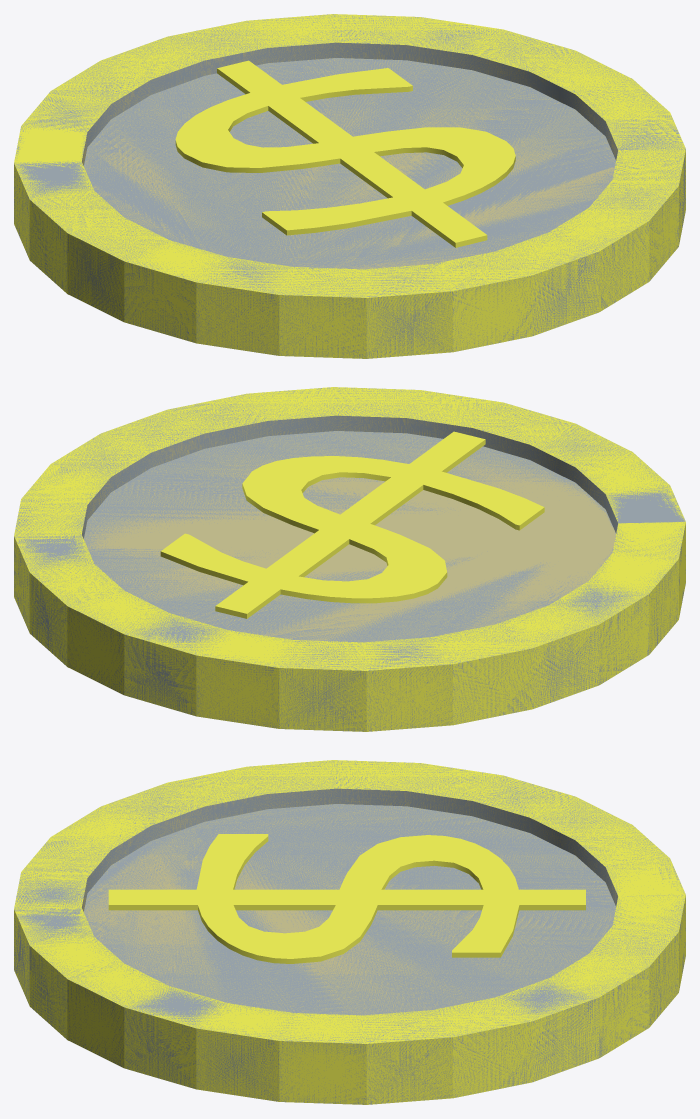
The model's file is Coin.fbx.
3 views of the same model, one above another, from view 1: azimuth 30°, elevation 25°; view 2: azimuth 150°, elevation 25°; view 3: azimuth 270°, elevation 25° (orthographic).
Parts seen in each view (by area): view 1: Model; view 2: Model; view 3: Model.
Part boxes in pixels (<box>): Model: <box>14,14,685,358</box>; Model: <box>14,387,685,731</box>; Model: <box>14,760,685,1104</box>.
Size of the model in its own units: 120 by 13 by 120.
